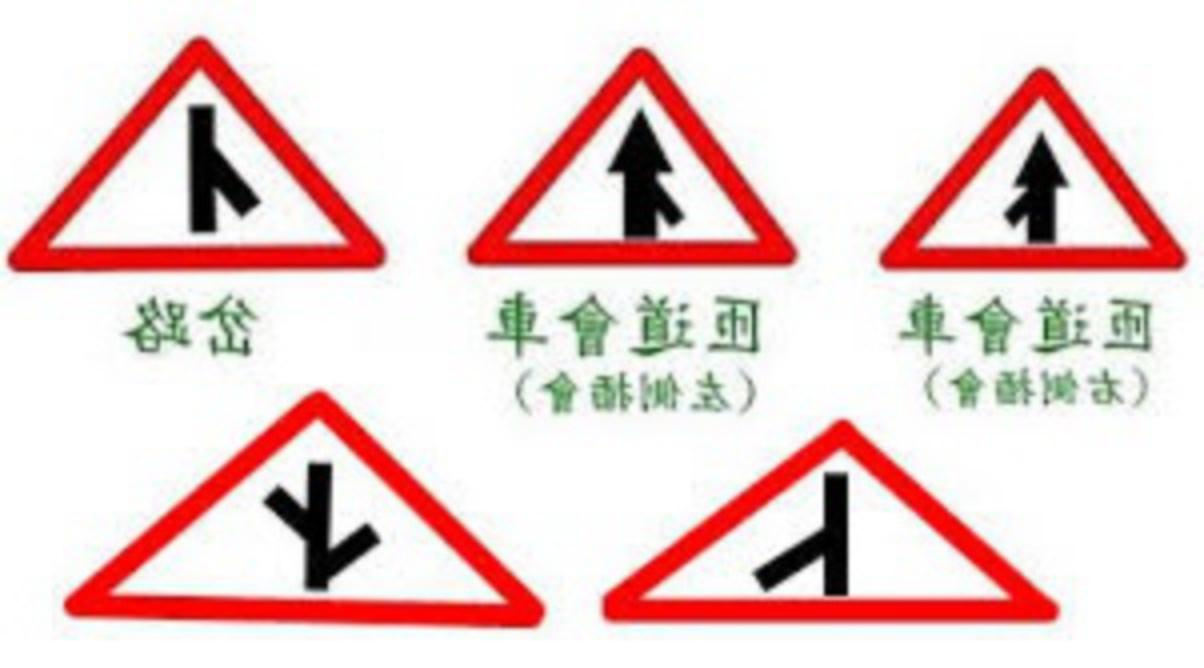fork_road: (38, 382, 568, 638), (599, 413, 1094, 651), (4, 19, 400, 290)
